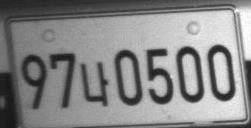0: (206, 43, 236, 102), (113, 48, 143, 106), (175, 45, 205, 103)
5: (146, 48, 174, 105)
7: (49, 52, 75, 108)
9: (21, 54, 47, 109)
나: (80, 61, 108, 106)
